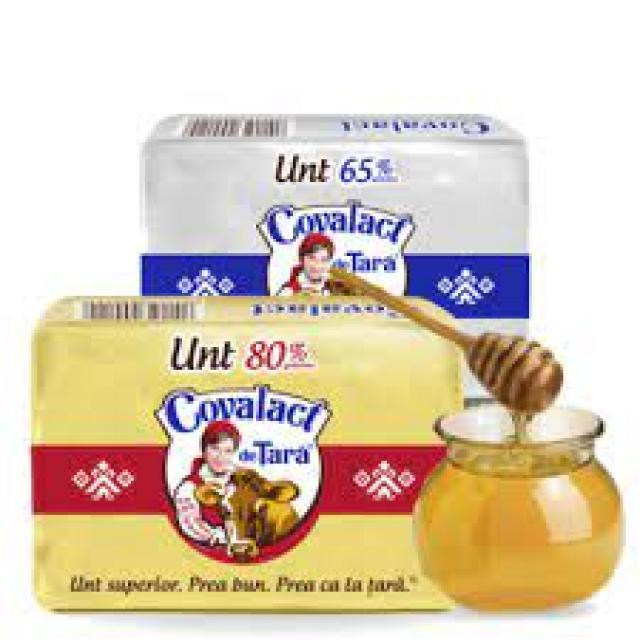butter: (31, 293, 462, 610), (142, 113, 531, 395)
